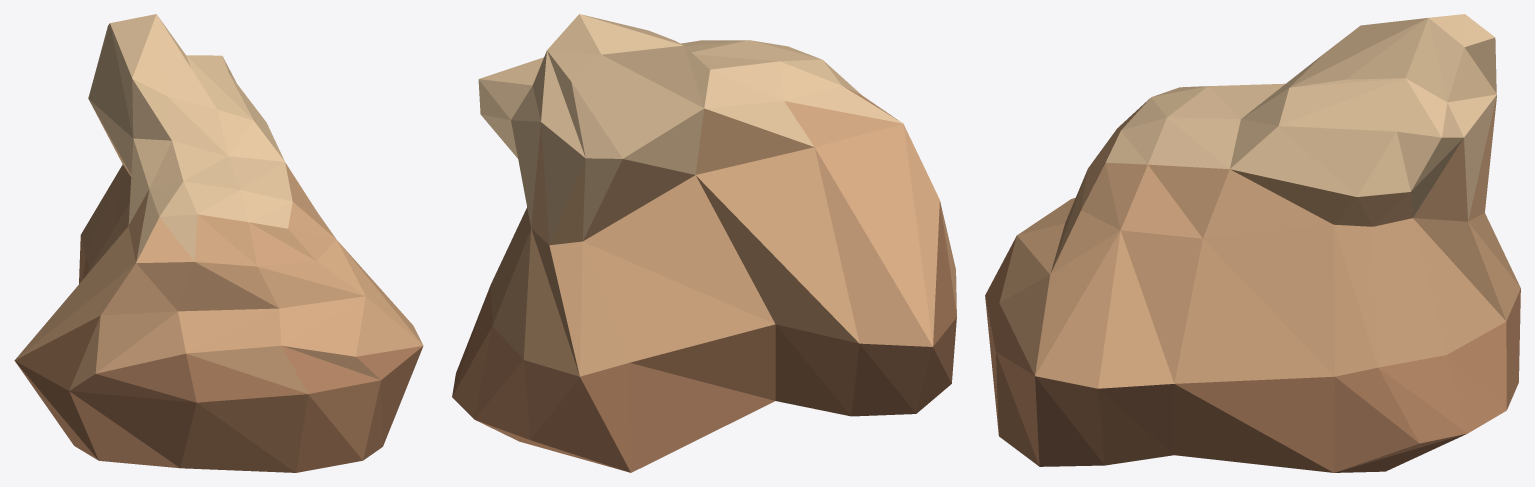
Rendered from canyon-3-5.glb.
3 views of the same model, side by side, from view 1: azimuth 30°, elevation 25°; view 2: azimuth 150°, elevation 25°; view 3: azimuth 270°, elevation 25° (orthographic). The views are drawn at different scales.
Parts seen in each view (by area): view 1: canyon-3-5; view 2: canyon-3-5; view 3: canyon-3-5.
Boxes of the visible parts, x1=… form: canyon-3-5: x1=14, y1=14, x2=423, y2=472; canyon-3-5: x1=452, y1=14, x2=956, y2=472; canyon-3-5: x1=985, y1=14, x2=1520, y2=472.
Size of the model in its own units: 26.24 by 26 by 30.29.
